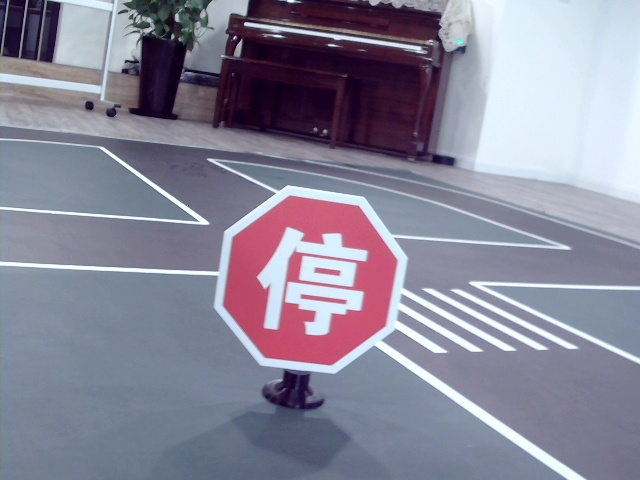stop: (256, 222, 363, 338)
